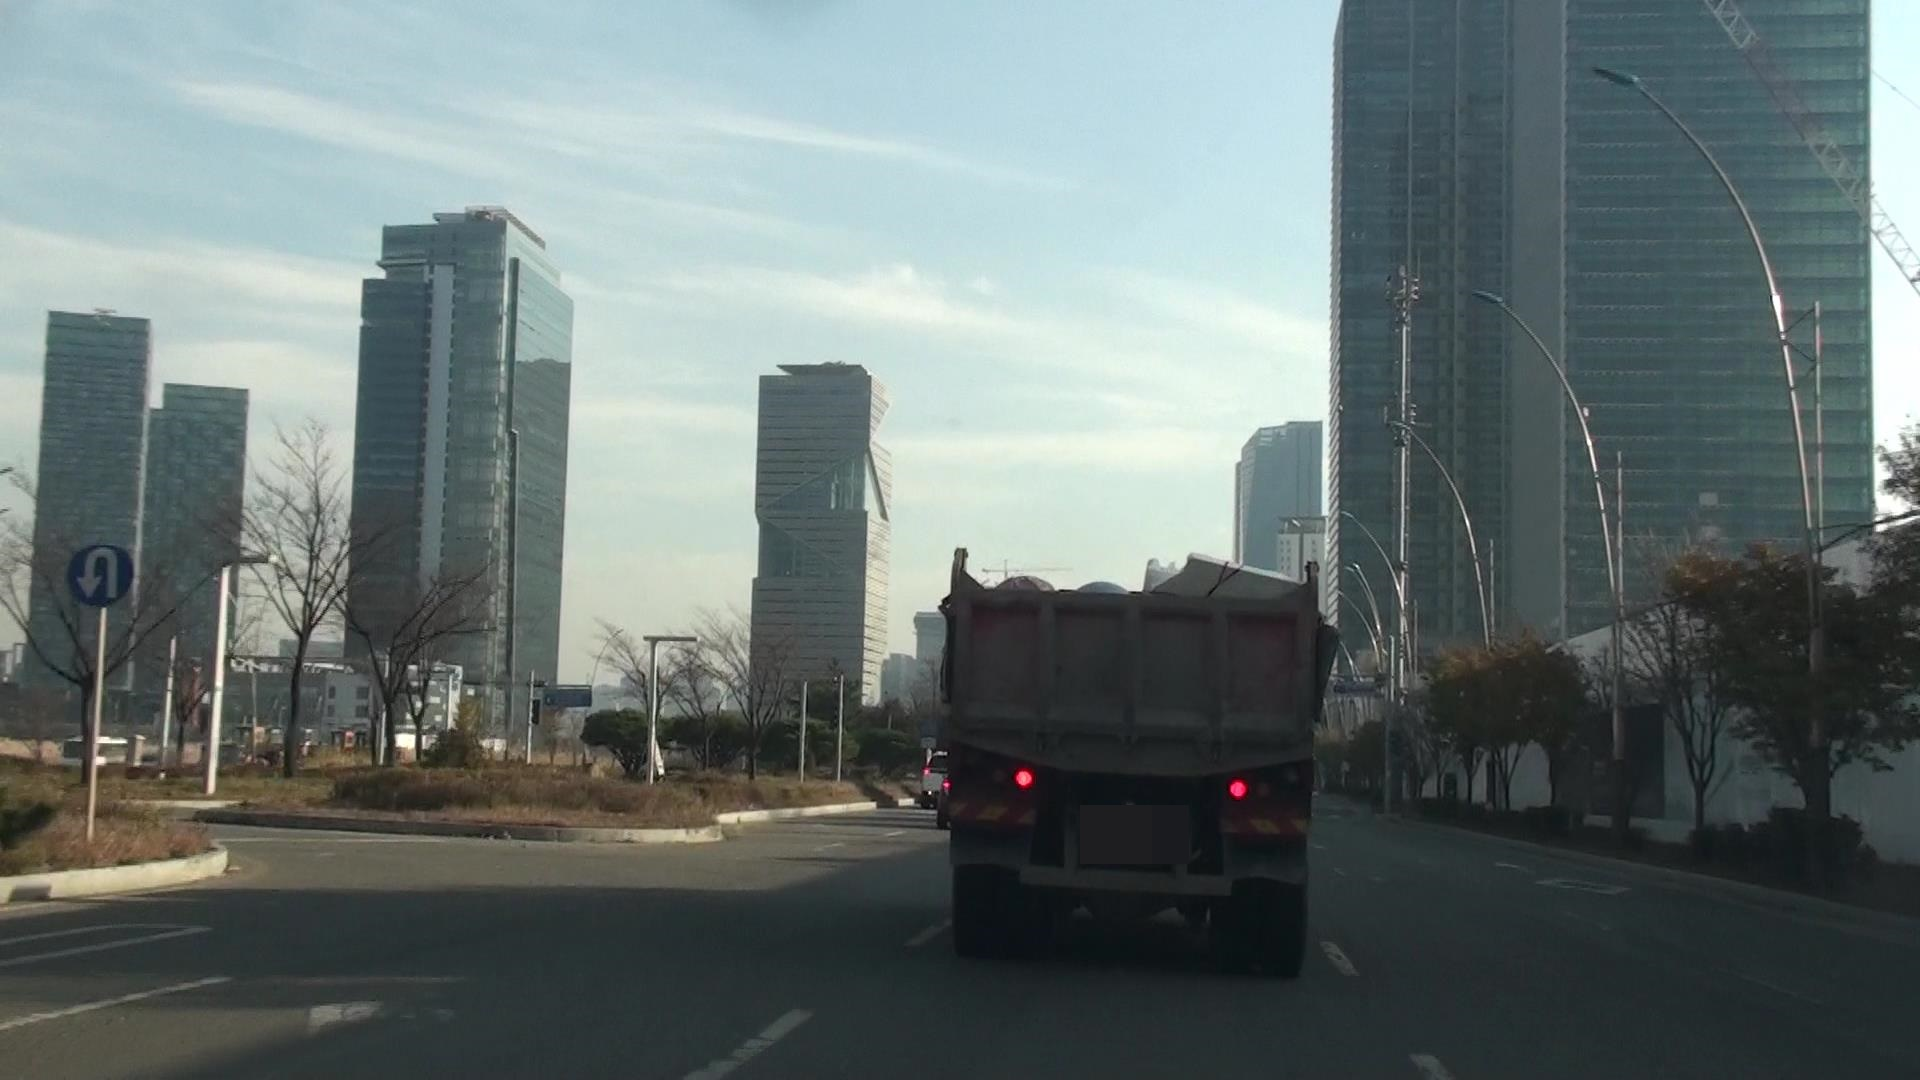불법차량: (938, 547, 1342, 980)
